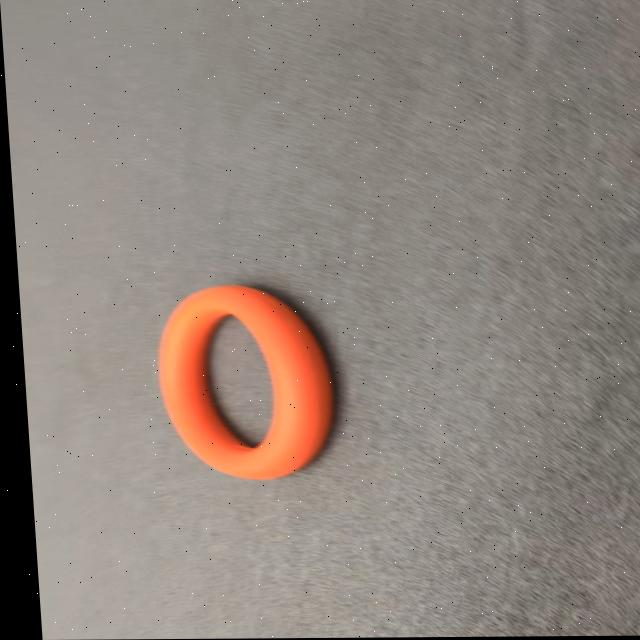note: (146, 288, 333, 477)
